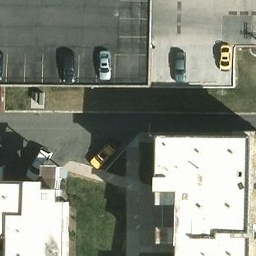car: (20, 149, 54, 183), (90, 139, 119, 169), (55, 49, 79, 81), (172, 48, 188, 80), (99, 50, 113, 80), (218, 40, 231, 72)
